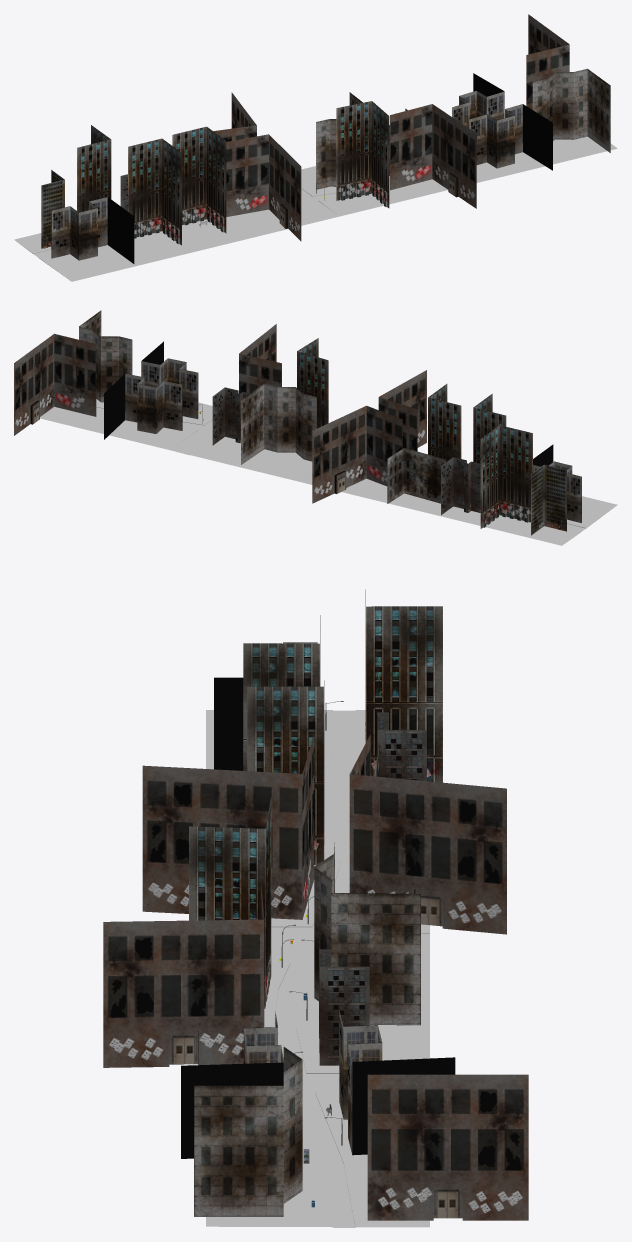
File: cityPatch02_FINAL_001.fbx
The picture shows the model from 3 angles, top to bottom: view 1: azimuth 30°, elevation 25°; view 2: azimuth 150°, elevation 25°; view 3: azimuth 270°, elevation 25°; orthographic projection. The views are drawn at different scales.
Visible parts, largest first — view 1: polySurface85; view 2: polySurface85; view 3: polySurface85, cityPatch2_Fin_003:road_geo.
Part boxes in pixels (<box>): polySurface85: <box>14,14,617,281</box>; polySurface85: <box>14,310,617,545</box>; polySurface85: <box>103,589,528,1227</box>; cityPatch2_Fin_003:road_geo: <box>274,710,355,1227</box>.
Bounding box in the file's own units: 768 × 125 × 267.
